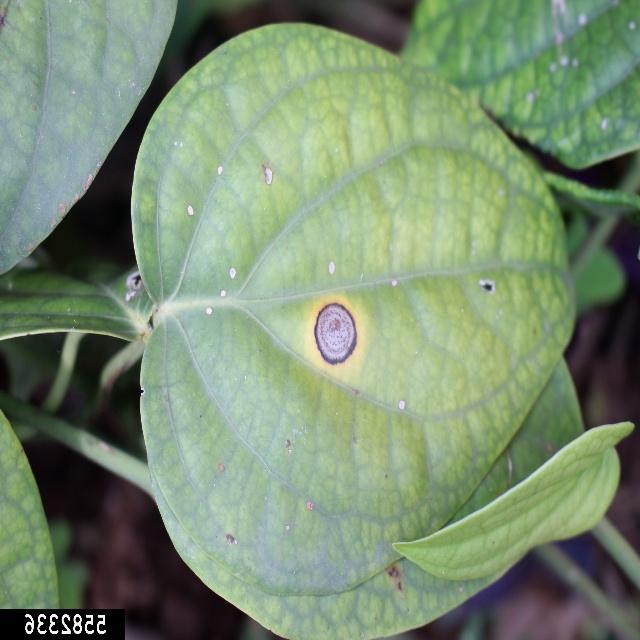leaf_spot: (179, 97, 550, 490)
